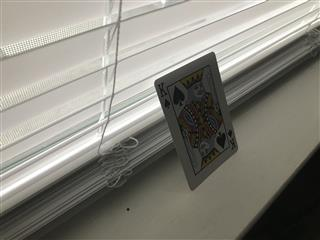KingOfSpades: (153, 51, 238, 190)
